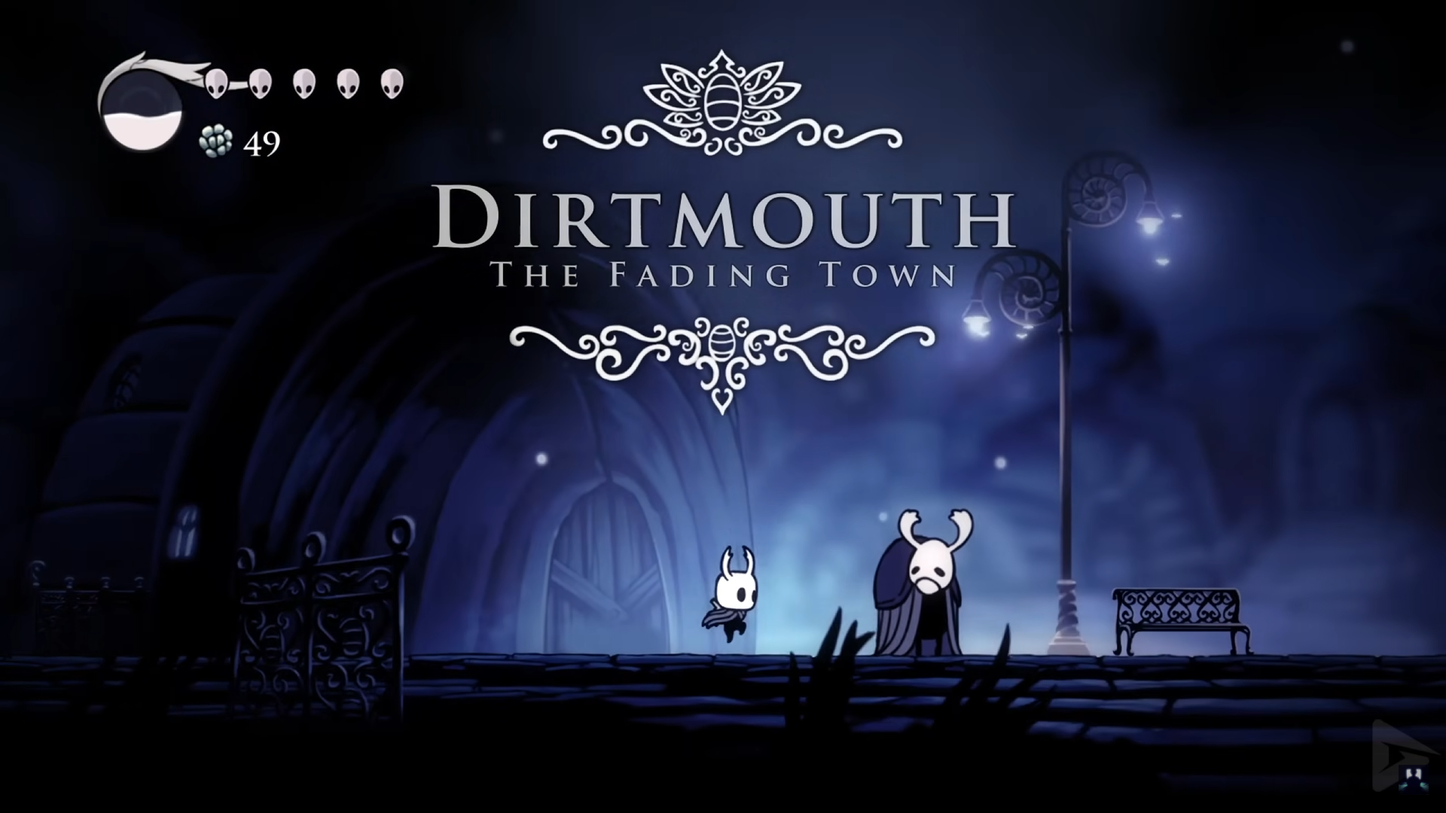HK: (701, 543, 764, 648)
